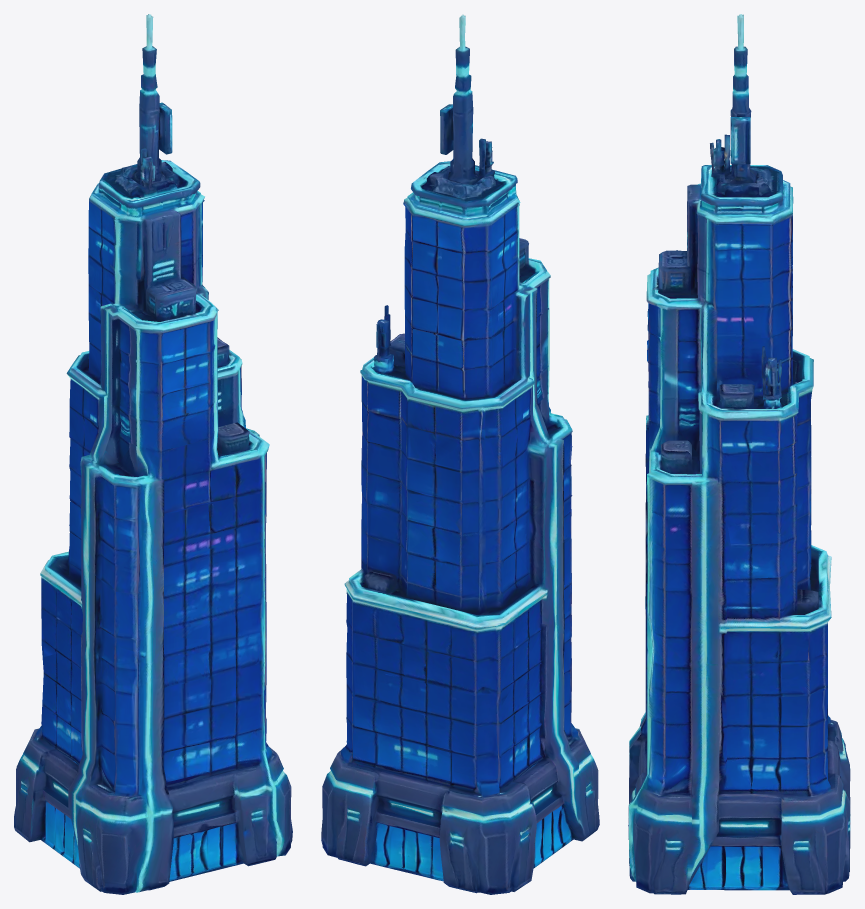
Rendered from env-building-2.glb.
3 renders of one model, left to right at view 1: azimuth 30°, elevation 25°; view 2: azimuth 150°, elevation 25°; view 3: azimuth 270°, elevation 25°, orthographic.
Visible parts, largest first — view 1: env-building-2; view 2: env-building-2; view 3: env-building-2.
Part boxes in pixels (x1=…): env-building-2: x1=14, y1=14, x2=292, y2=894; env-building-2: x1=321, y1=14, x2=599, y2=894; env-building-2: x1=628, y1=14, x2=850, y2=894.
Bounding box in the file's own units: 4.25 × 17 × 4.11.
1 material, 1 textured.
